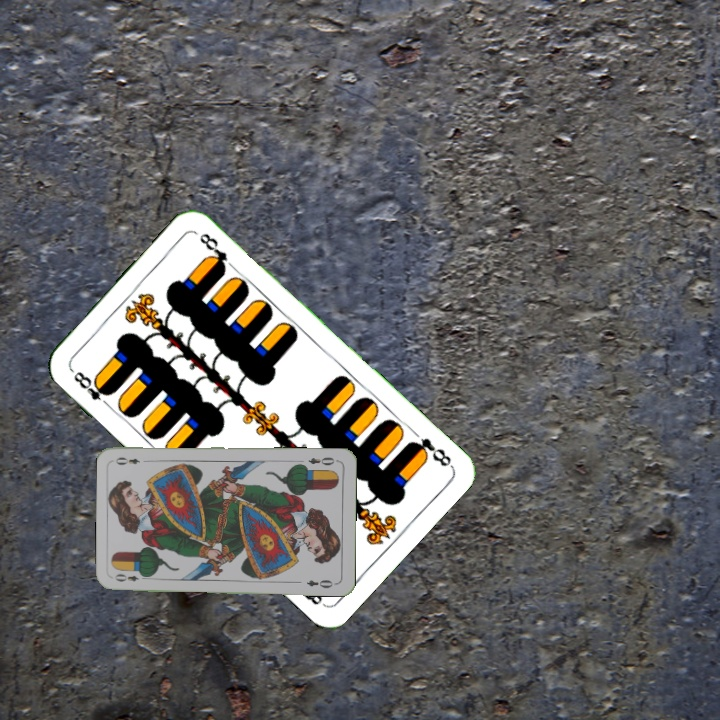E8: (67, 365, 115, 411), (404, 433, 454, 470)
EO: (110, 570, 150, 584), (304, 453, 340, 468)
